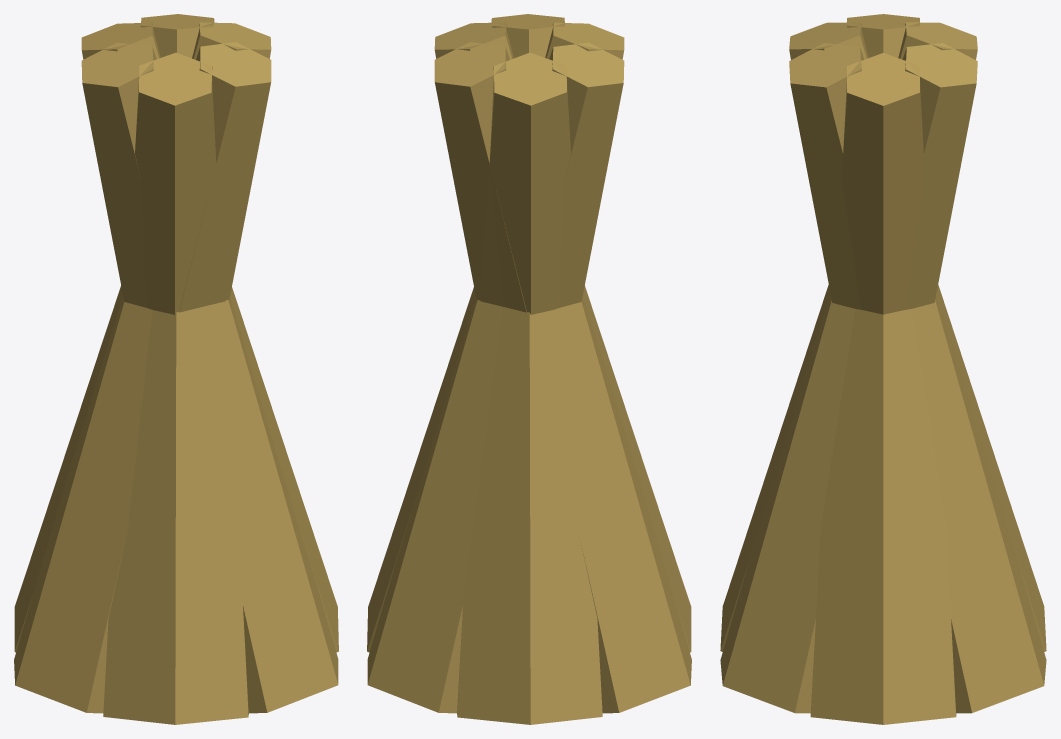
File: stook.glb
The picture shows the model from 3 angles, left to right: view 1: azimuth 30°, elevation 25°; view 2: azimuth 150°, elevation 25°; view 3: azimuth 270°, elevation 25°; orthographic projection.
Parts seen in each view (by area): view 1: foliage/stook; view 2: foliage/stook; view 3: foliage/stook.
Boxes of the visible parts, x1,y1,x2,y2 form: foliage/stook: [14, 14, 338, 724]; foliage/stook: [367, 14, 691, 724]; foliage/stook: [720, 14, 1046, 724].
Bounding box in the file's own units: 0.5325 × 1.01 × 0.466.
